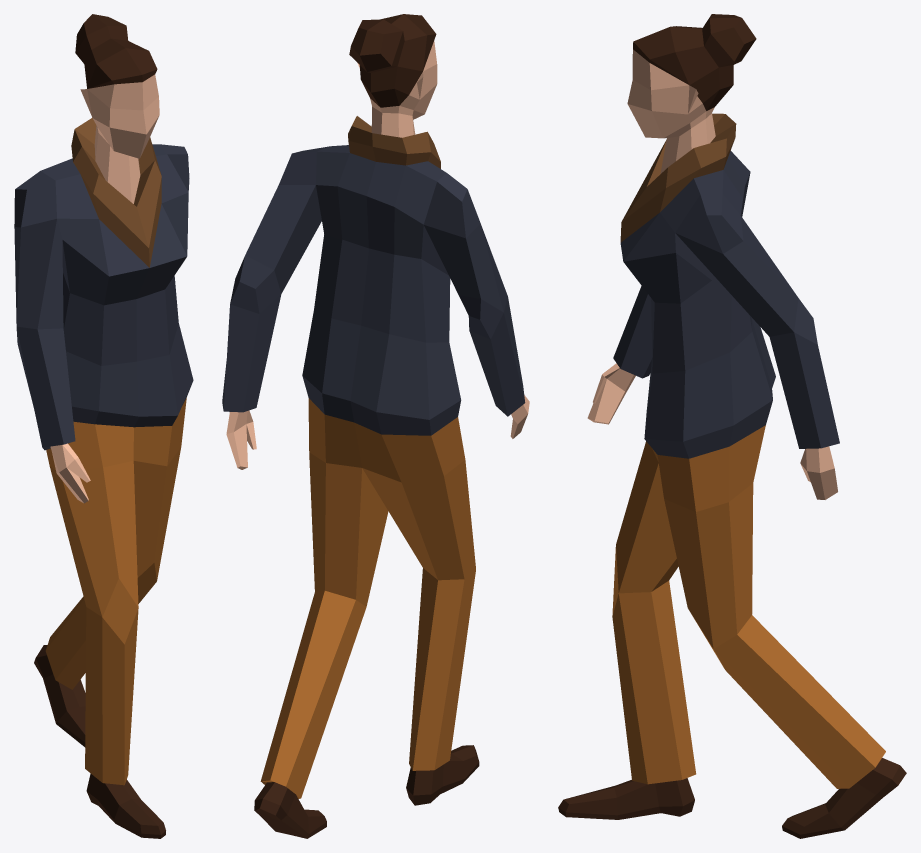
The model's file is AutumnWomanC.004.glb.
The picture shows the model from 3 angles, left to right: view 1: azimuth 30°, elevation 25°; view 2: azimuth 150°, elevation 25°; view 3: azimuth 270°, elevation 25°; orthographic projection. The views are drawn at different scales.
Parts seen in each view (by area): view 1: AutumnWomanC.004; view 2: AutumnWomanC.004; view 3: AutumnWomanC.004.
Part boxes in pixels (left/top/right/bottom): AutumnWomanC.004: left=14, top=14, right=193, bottom=838; AutumnWomanC.004: left=222, top=14, right=529, bottom=838; AutumnWomanC.004: left=558, top=14, right=906, bottom=838.
Bounding box in the file's own units: 0.4808 × 1.69 × 0.6632.
1 material, 1 textured.
